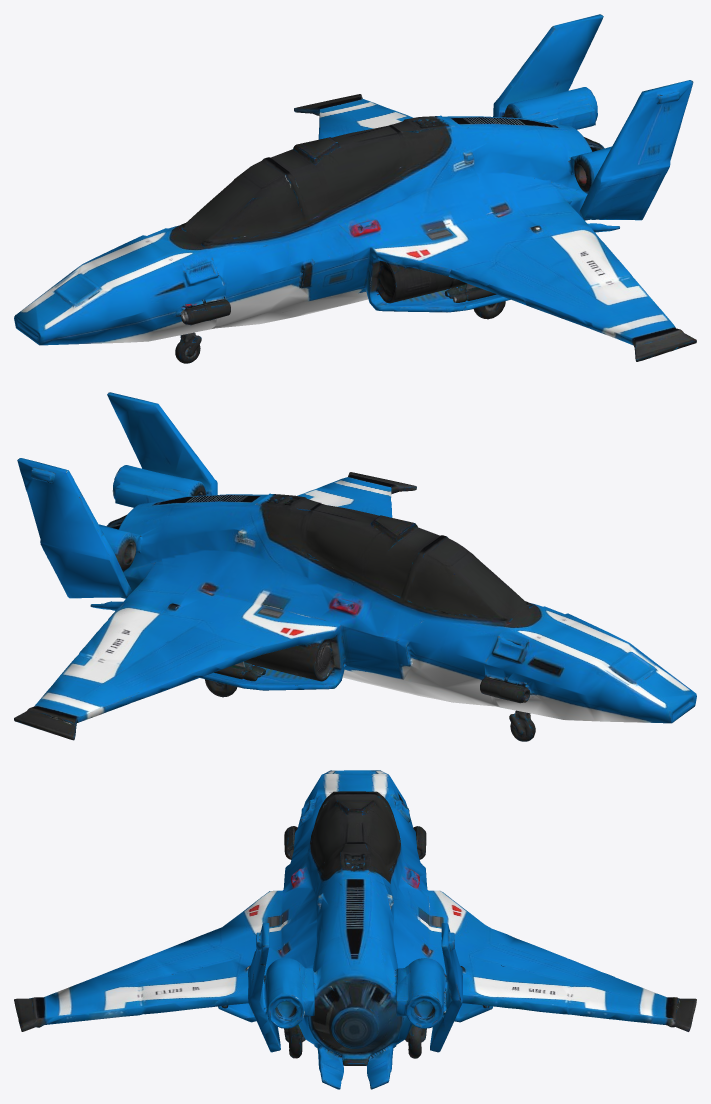
File: fighter_ally.repacked.glb
3 renders of one model, top to bottom at view 1: azimuth 30°, elevation 25°; view 2: azimuth 150°, elevation 25°; view 3: azimuth 270°, elevation 25°, orthographic.
Visible parts, largest first — view 1: Mesh1.0; view 2: Mesh1.0; view 3: Mesh1.0.
Part boxes in pixels (left/top/right/bottom): Mesh1.0: left=14, top=14, right=696, bottom=363; Mesh1.0: left=14, top=392, right=696, bottom=741; Mesh1.0: left=14, top=770, right=696, bottom=1089.
Size of the model in its own units: 1.91 by 0.5982 by 1.83.
Materials: 1 (1 with a texture image).
